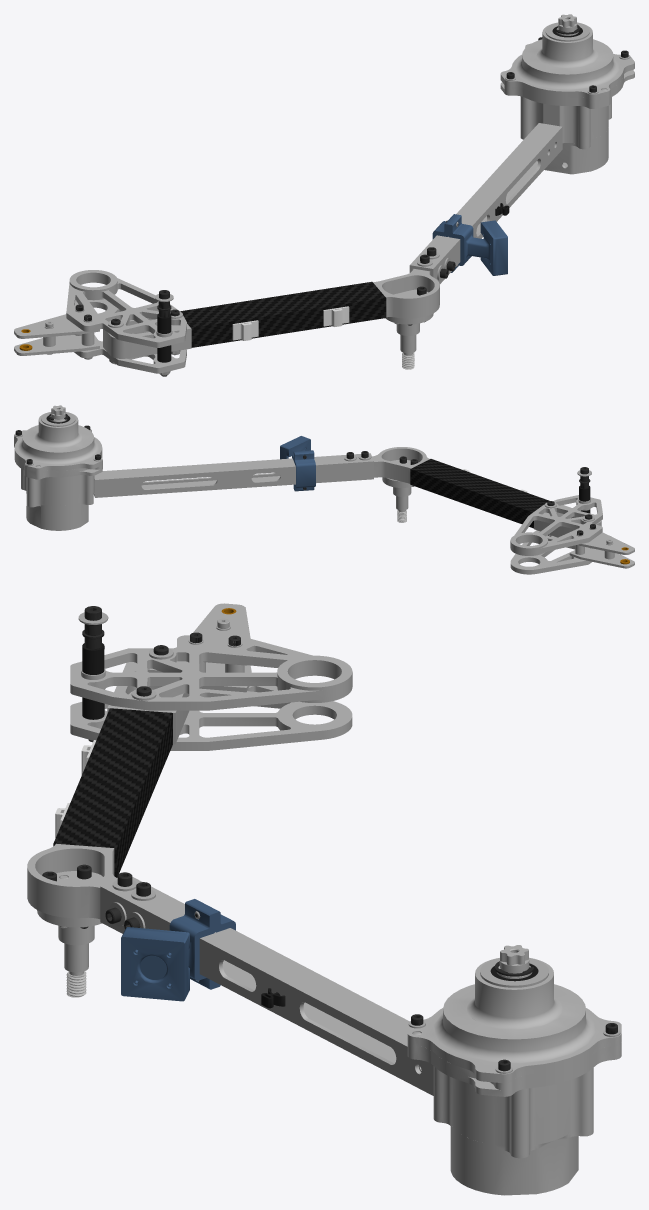
Rendered from rover_left_rocker.glb.
3 views of the same model, one above another, from view 1: azimuth 30°, elevation 25°; view 2: azimuth 150°, elevation 25°; view 3: azimuth 270°, elevation 25° (orthographic). The views are drawn at different scales.
Parts seen in each view (by area): view 1: 116999_A;1; view 2: 116999_A;1; view 3: 116999_A;1.
Boxes of the visible parts, bbox=[...] form: 116999_A;1: bbox=[14, 14, 634, 376]; 116999_A;1: bbox=[14, 405, 634, 574]; 116999_A;1: bbox=[27, 603, 621, 1195].
Size of the model in its own units: 81.61 by 19.29 by 38.21.
Materials: 8 (1 with a texture image).
